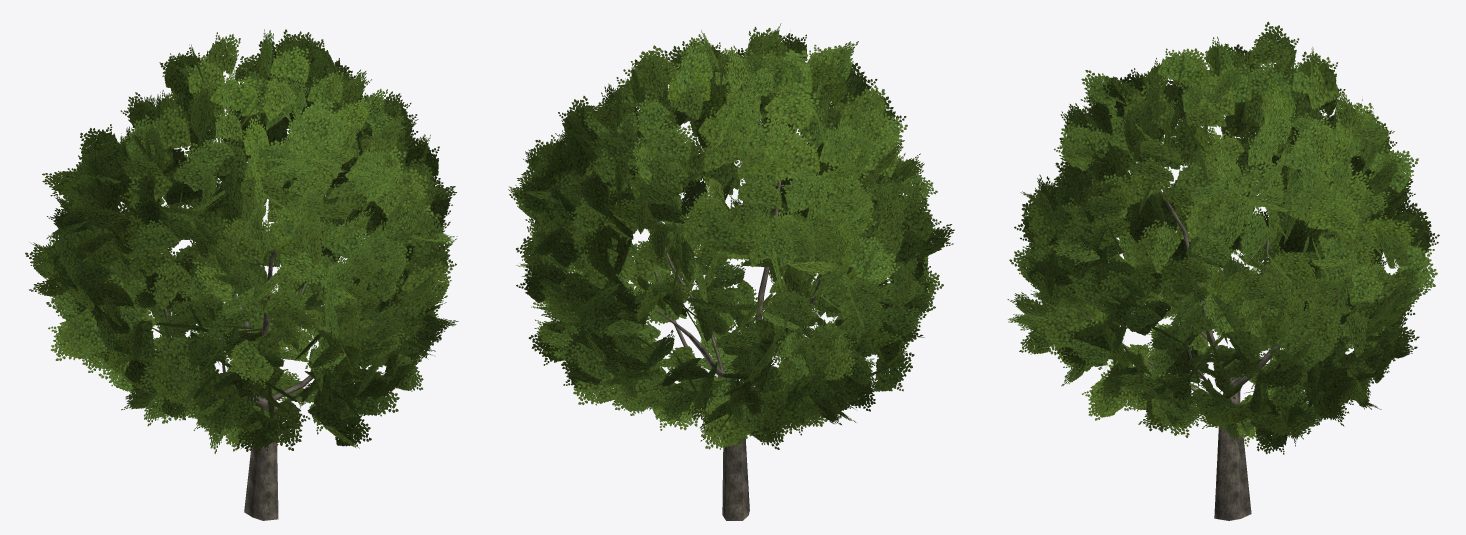
File: arbre_feuillu_rond_lod1.glb
3 views of the same model, side by side, from view 1: azimuth 30°, elevation 25°; view 2: azimuth 150°, elevation 25°; view 3: azimuth 270°, elevation 25° (orthographic). The views are drawn at different scales.
Visible parts, largest first — view 1: arbre_feuillu_rond_lod1; view 2: arbre_feuillu_rond_lod1; view 3: arbre_feuillu_rond_lod1.
Part boxes in pixels (box(x1,y1,x2,y2)): arbre_feuillu_rond_lod1: box(25, 29, 458, 520); arbre_feuillu_rond_lod1: box(508, 23, 954, 520); arbre_feuillu_rond_lod1: box(1007, 21, 1439, 520).
Bounding box in the file's own units: 9.69 × 11.41 × 9.86.
2 materials, 2 textured.
